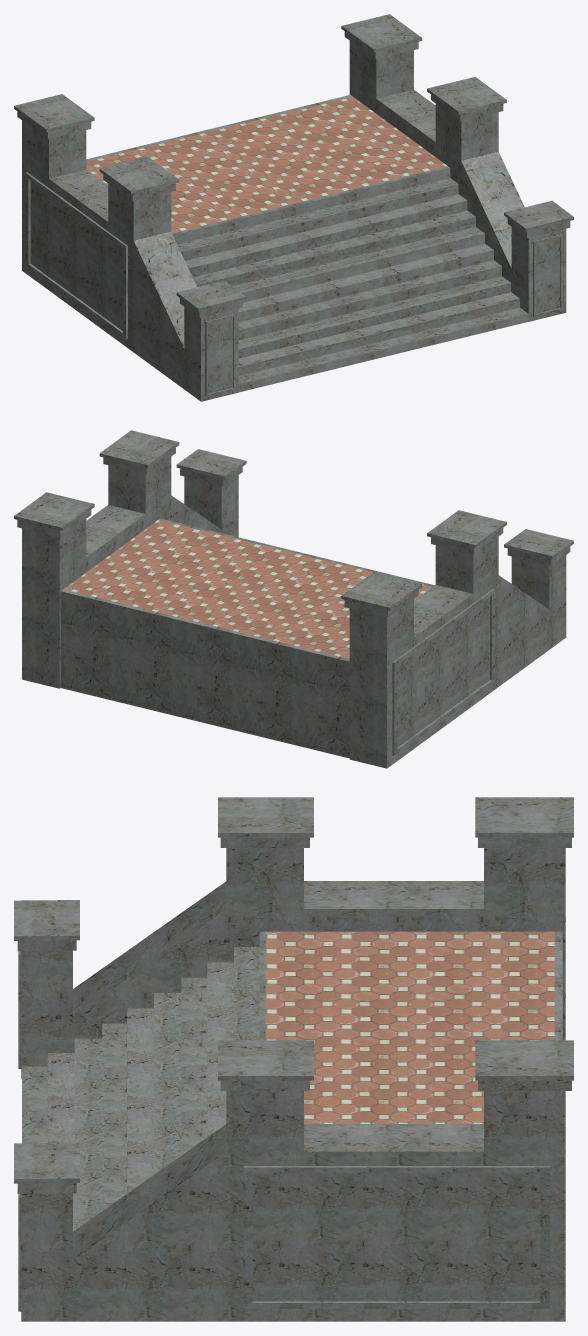
File: fbxStairs.fbx
3 views of the same model, one above another, from view 1: azimuth 30°, elevation 25°; view 2: azimuth 150°, elevation 25°; view 3: azimuth 270°, elevation 25° (orthographic). The views are drawn at different scales.
Visible parts, largest first — view 1: stairs; view 2: stairs; view 3: stairs.
Part boxes in pixels (x1,y1,x2,y2): stairs: [14, 14, 573, 401]; stairs: [14, 430, 573, 768]; stairs: [14, 797, 573, 1321].
Size of the model in its own units: 6.18 by 2.58 by 5.25.
2 materials, 2 textured.
